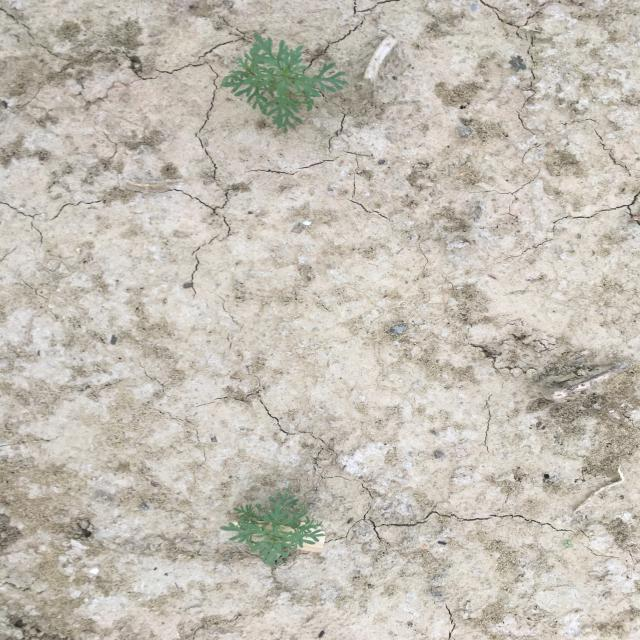Ragweed: (220, 31, 350, 136), (217, 488, 328, 569)
